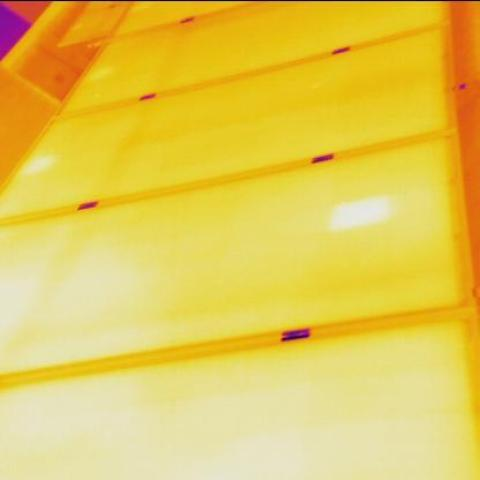fault: (330, 193, 398, 232), (24, 153, 58, 178)
